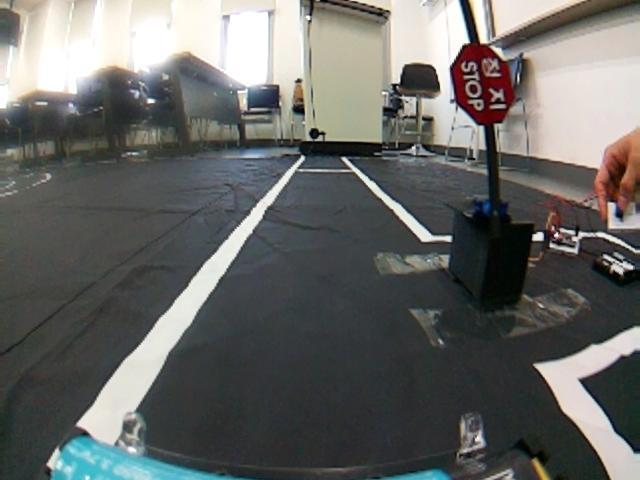sign_stop: (447, 42, 517, 127)
straight: (3, 157, 640, 480)
